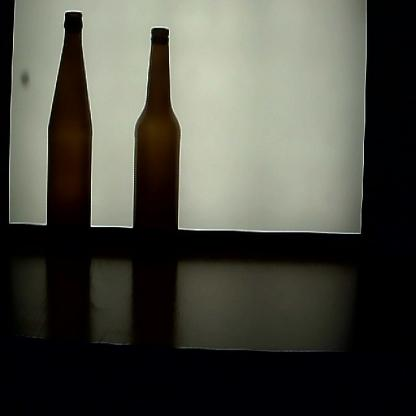Can: (131, 23, 187, 282), (44, 7, 93, 278)
